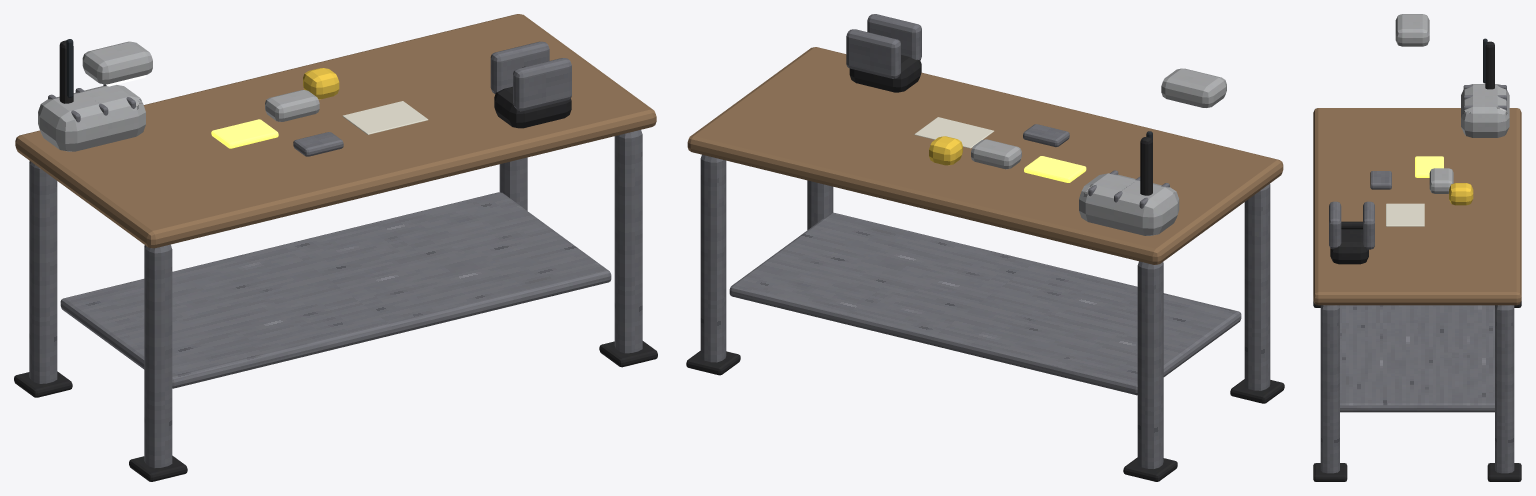
File: decor_eng_parts_workbench.glb
3 views of the same model, side by side, from view 1: azimuth 30°, elevation 25°; view 2: azimuth 150°, elevation 25°; view 3: azimuth 270°, elevation 25° (orthographic). The views are drawn at different scales.
Visible parts, largest first — view 1: DEC_EngPartsWorkbench__Table_Top, DEC_EngPartsWorkbench__Lower_Shelf, DEC_EngPartsWorkbench__Leg_LA, DEC_EngPartsWorkbench__Leg_RA, DEC_EngPartsWorkbench__Leg_LB, DEC_EngPartsWorkbench__Bin_Body, DEC_EngPartsWorkbench__Vice_Jaw_Fixed, DEC_EngPartsWorkbench__Lamp_Head, DEC_EngPartsWorkbench__Vice_Jaw_Moving, DEC_EngPartsWorkbench__Vice_Base, DEC_EngPartsWorkbench__Blueprint, DEC_EngPartsWorkbench__Part_Bracket (+7 smaller); view 2: DEC_EngPartsWorkbench__Table_Top, DEC_EngPartsWorkbench__Lower_Shelf, DEC_EngPartsWorkbench__Leg_LB, DEC_EngPartsWorkbench__Leg_RB, DEC_EngPartsWorkbench__Leg_LA, DEC_EngPartsWorkbench__Bin_Body, DEC_EngPartsWorkbench__Vice_Jaw_Moving, DEC_EngPartsWorkbench__Lamp_Head, DEC_EngPartsWorkbench__Vice_Jaw_Fixed, DEC_EngPartsWorkbench__Vice_Base, DEC_EngPartsWorkbench__Blueprint, DEC_EngPartsWorkbench__Part_Bracket (+8 smaller); view 3: DEC_EngPartsWorkbench__Table_Top, DEC_EngPartsWorkbench__Lower_Shelf, DEC_EngPartsWorkbench__Leg_RA, DEC_EngPartsWorkbench__Leg_RB, DEC_EngPartsWorkbench__Bin_Body, DEC_EngPartsWorkbench__Lamp_Head, DEC_EngPartsWorkbench__Vice_Base, DEC_EngPartsWorkbench__Blueprint, DEC_EngPartsWorkbench__Vice_Jaw_Fixed, DEC_EngPartsWorkbench__Part_Bracket, DEC_EngPartsWorkbench__Vice_Jaw_Moving, DEC_EngPartsWorkbench__Part_Coil (+5 smaller).
Boxes of the visible parts, x1,y1,x2,y2 form: DEC_EngPartsWorkbench__Table_Top: [15, 14, 656, 248]; DEC_EngPartsWorkbench__Lower_Shelf: [60, 192, 611, 388]; DEC_EngPartsWorkbench__Leg_LA: [144, 244, 172, 468]; DEC_EngPartsWorkbench__Leg_RA: [614, 130, 642, 353]; DEC_EngPartsWorkbench__Leg_LB: [29, 161, 57, 383]; DEC_EngPartsWorkbench__Bin_Body: [38, 85, 145, 151]; DEC_EngPartsWorkbench__Vice_Jaw_Fixed: [513, 58, 571, 111]; DEC_EngPartsWorkbench__Lamp_Head: [82, 41, 152, 84]; DEC_EngPartsWorkbench__Vice_Jaw_Moving: [490, 41, 549, 93]; DEC_EngPartsWorkbench__Vice_Base: [494, 86, 571, 128]; DEC_EngPartsWorkbench__Blueprint: [342, 101, 428, 134]; DEC_EngPartsWorkbench__Part_Bracket: [265, 90, 319, 121]; DEC_EngPartsWorkbench__Table_Top: [687, 47, 1283, 264]; DEC_EngPartsWorkbench__Lower_Shelf: [729, 212, 1241, 395]; DEC_EngPartsWorkbench__Leg_LB: [1137, 261, 1163, 468]; DEC_EngPartsWorkbench__Leg_RB: [700, 154, 726, 362]; DEC_EngPartsWorkbench__Leg_LA: [1244, 184, 1270, 390]; DEC_EngPartsWorkbench__Bin_Body: [1079, 173, 1179, 235]; DEC_EngPartsWorkbench__Vice_Jaw_Moving: [846, 29, 900, 78]; DEC_EngPartsWorkbench__Lamp_Head: [1161, 68, 1226, 107]; DEC_EngPartsWorkbench__Vice_Jaw_Fixed: [867, 14, 921, 60]; DEC_EngPartsWorkbench__Vice_Base: [849, 55, 921, 92]; DEC_EngPartsWorkbench__Blueprint: [914, 117, 994, 148]; DEC_EngPartsWorkbench__Part_Bracket: [971, 139, 1021, 169]; DEC_EngPartsWorkbench__Table_Top: [1313, 108, 1521, 305]; DEC_EngPartsWorkbench__Lower_Shelf: [1340, 305, 1494, 412]; DEC_EngPartsWorkbench__Leg_RA: [1320, 305, 1339, 473]; DEC_EngPartsWorkbench__Leg_RB: [1495, 305, 1514, 473]; DEC_EngPartsWorkbench__Bin_Body: [1461, 84, 1509, 137]; DEC_EngPartsWorkbench__Lamp_Head: [1395, 14, 1429, 46]; DEC_EngPartsWorkbench__Vice_Base: [1330, 229, 1368, 264]; DEC_EngPartsWorkbench__Blueprint: [1386, 203, 1424, 226]; DEC_EngPartsWorkbench__Vice_Jaw_Fixed: [1329, 201, 1341, 249]; DEC_EngPartsWorkbench__Part_Bracket: [1429, 168, 1453, 193]; DEC_EngPartsWorkbench__Vice_Jaw_Moving: [1363, 201, 1374, 249]; DEC_EngPartsWorkbench__Part_Coil: [1449, 183, 1473, 205].
Size of the model in its own units: 1.84 by 1.3 by 0.86.
9 materials, 3 textured.
